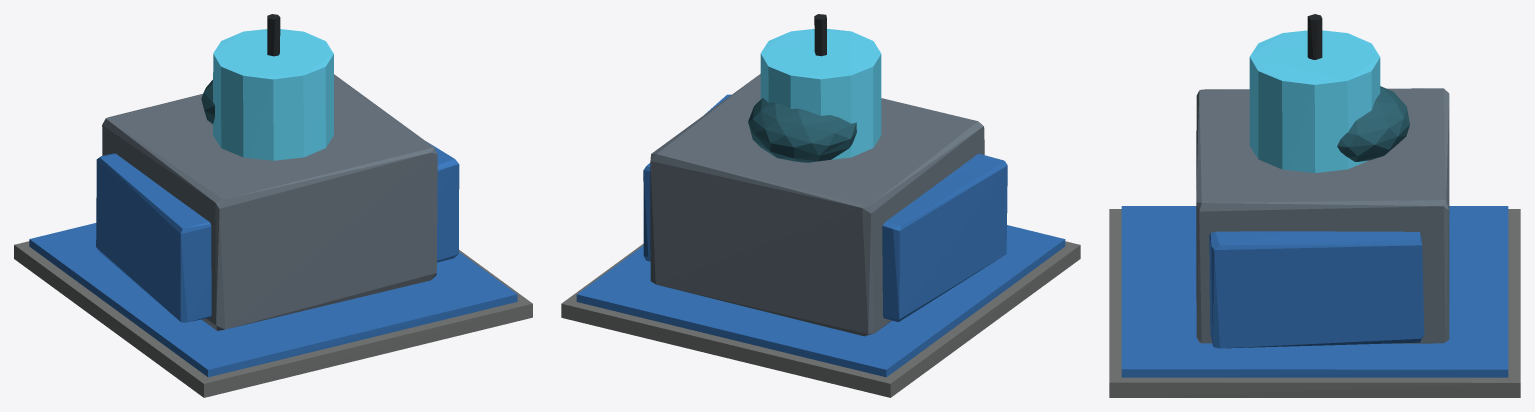
Rendered from SM_Alliance_AL_ConYard_LOD2.fbx.
3 views of the same model, side by side, from view 1: azimuth 30°, elevation 25°; view 2: azimuth 150°, elevation 25°; view 3: azimuth 270°, elevation 25° (orthographic). The views are drawn at different scales.
Visible parts, largest first — view 1: LOD02_SM_Alliance_AL_ConYard; view 2: LOD02_SM_Alliance_AL_ConYard; view 3: LOD02_SM_Alliance_AL_ConYard.
Part boxes in pixels (bbox=[...]): LOD02_SM_Alliance_AL_ConYard: bbox=[14, 14, 532, 397]; LOD02_SM_Alliance_AL_ConYard: bbox=[561, 14, 1080, 397]; LOD02_SM_Alliance_AL_ConYard: bbox=[1109, 14, 1520, 397].
Bounding box in the file's own units: 797 × 797 × 628.
